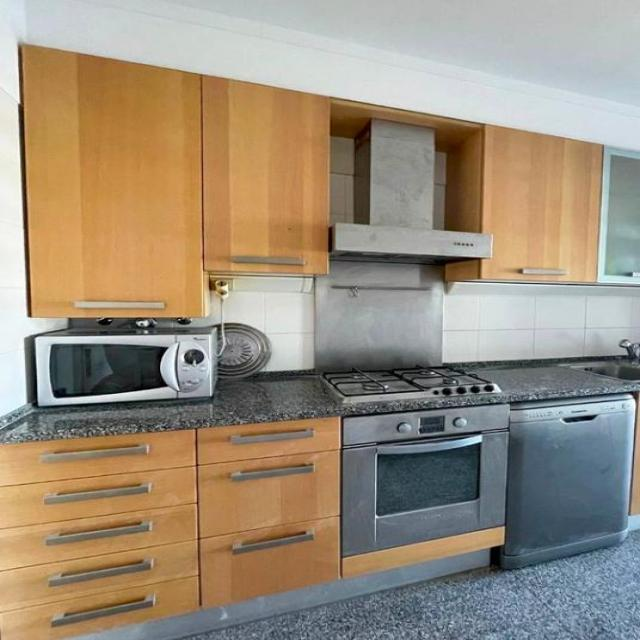dishwasher: (507, 391, 634, 571)
